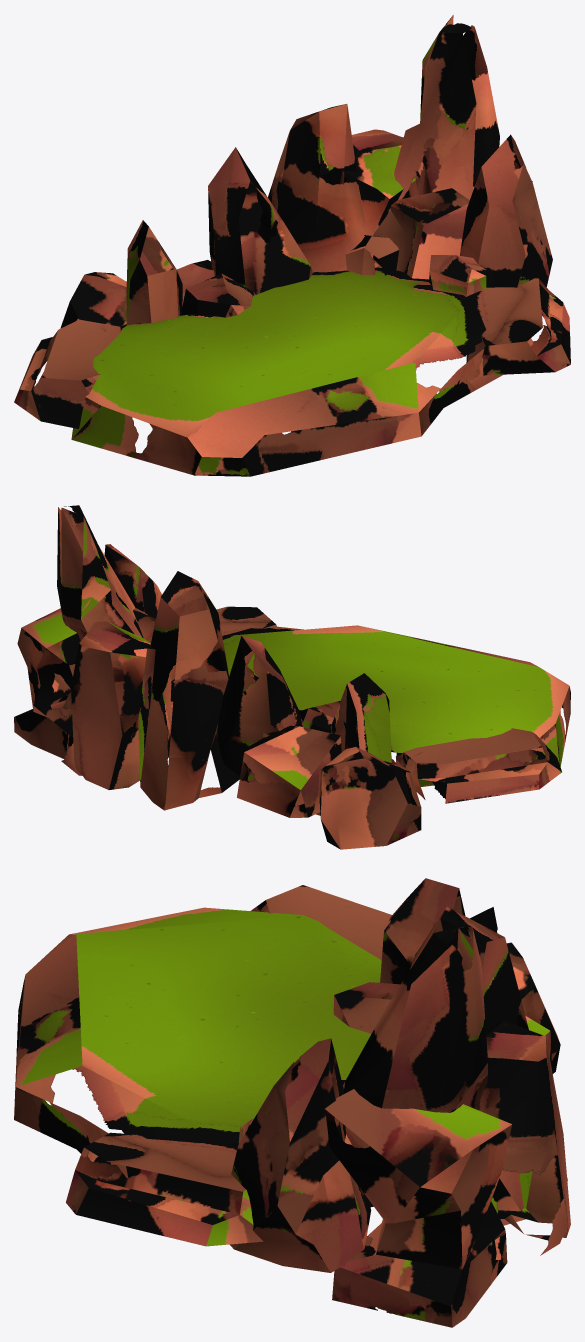
File: NormalCaveLightNew.fbx
The picture shows the model from 3 angles, top to bottom: view 1: azimuth 30°, elevation 25°; view 2: azimuth 150°, elevation 25°; view 3: azimuth 270°, elevation 25°; orthographic projection. The views are drawn at different scales.
Parts seen in each view (by area): view 1: NormalCavesLight_Low.001; view 2: NormalCavesLight_Low.001; view 3: NormalCavesLight_Low.001.
Part boxes in pixels (bbox=[...]): NormalCavesLight_Low.001: bbox=[14, 15, 570, 476]; NormalCavesLight_Low.001: bbox=[14, 505, 570, 849]; NormalCavesLight_Low.001: bbox=[14, 878, 570, 1327].
Size of the model in its own units: 977 by 502 by 647.
